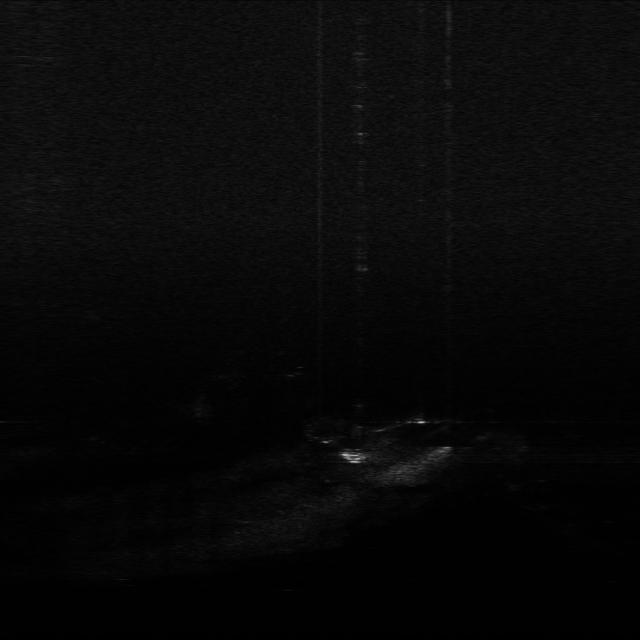rov: (337, 448, 372, 465)
